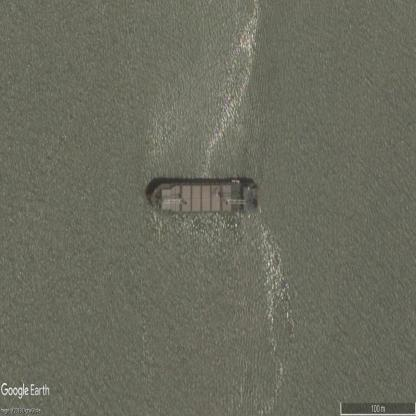ship: (149, 178, 259, 216)
